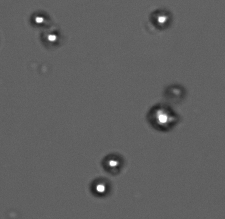Dead Cell: (162, 83, 186, 103)
Living Cell: (147, 104, 179, 131), (101, 153, 126, 173), (150, 8, 172, 29), (89, 177, 112, 197), (42, 29, 63, 45), (30, 11, 50, 26)
